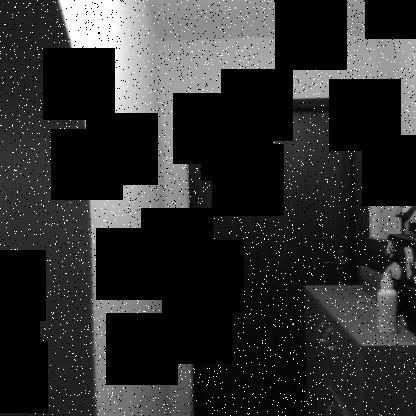Porte: (184, 95, 374, 415)
